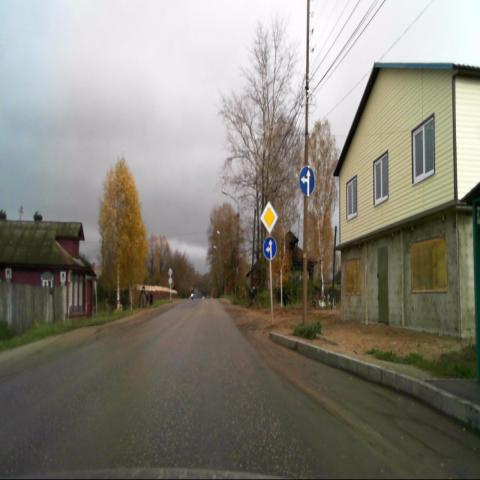4_1_5: (299, 167, 315, 197), (263, 235, 277, 261)
